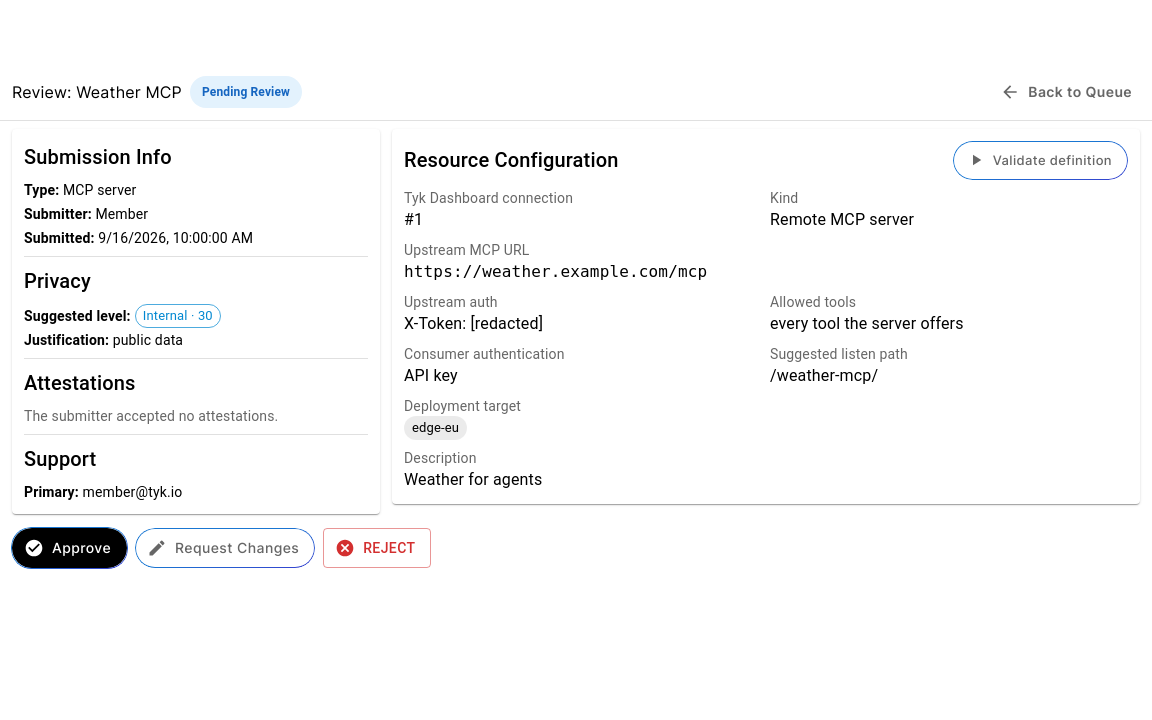
it: SubmissionReview for MCP servers › shows the MCP payload with the credential redacted and validates on the Dashboard
This screenshot has width=1152, height=720.
expect the element with test id "mcp-submission-summary" shows "https://weather.example.com/mcp": met, box left=404, top=262, right=707, bottom=281
expect the element with test id "mcp-submission-summary" shows "X-Token: [redacted]": met, box left=404, top=314, right=543, bottom=333
What coordinates should you click on to do the following:
click the button "Validate definition"
I would click on:
 (1040, 160)
Its box is left=953, top=141, right=1128, bottom=180.
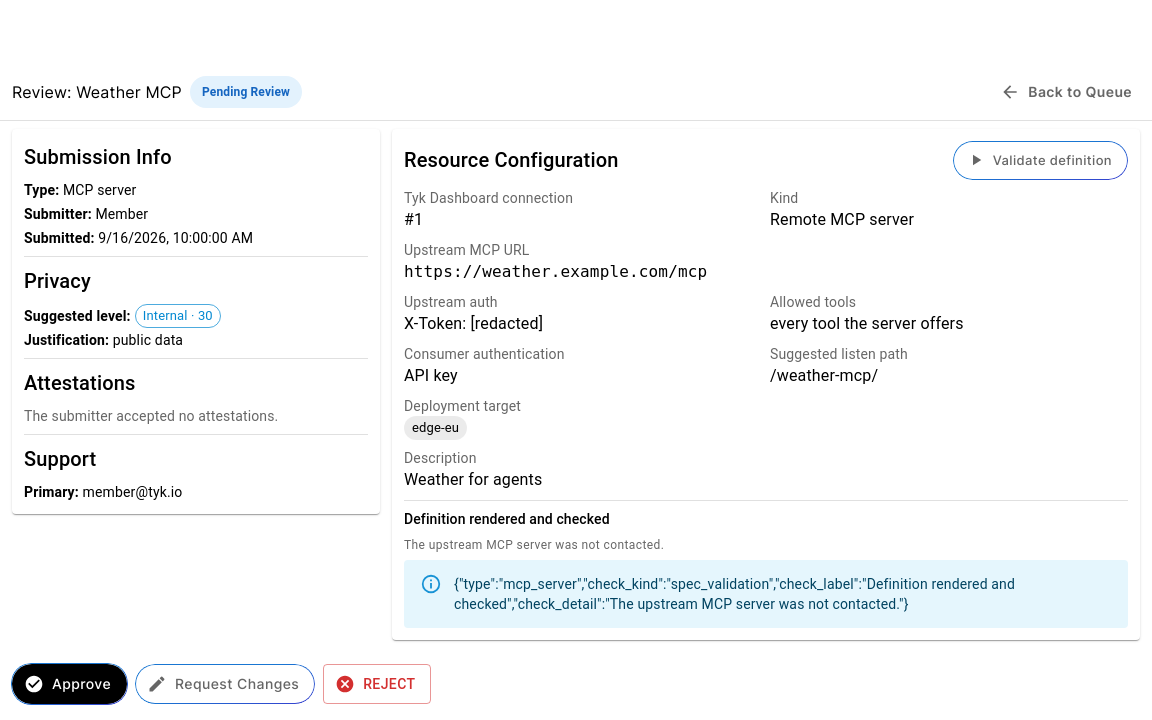
expect the heading "Definition rendered and checked" is shown: met, box left=404, top=511, right=610, bottom=527
